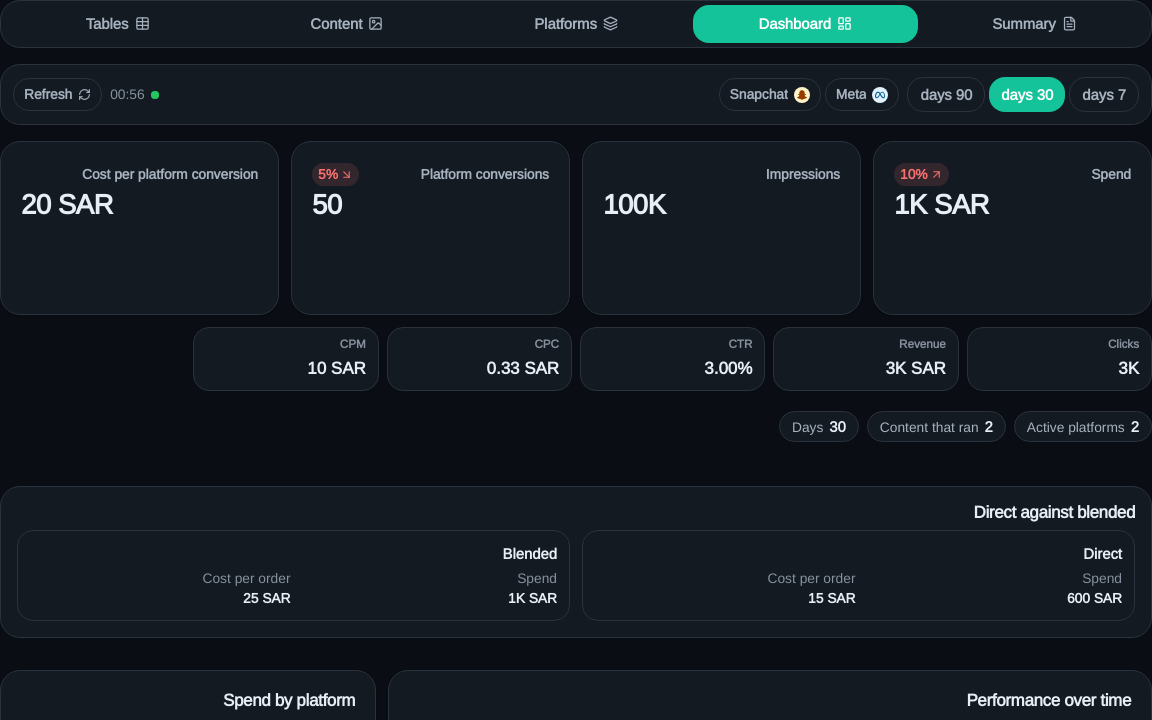
Test: the states a reader must never see collapsed › keeps the figures on screen when a refresh fails, and says so
Click the button with test id "live-refresh" at coordinates (58, 95), box top-left (13, 78), bottom-right (102, 111)
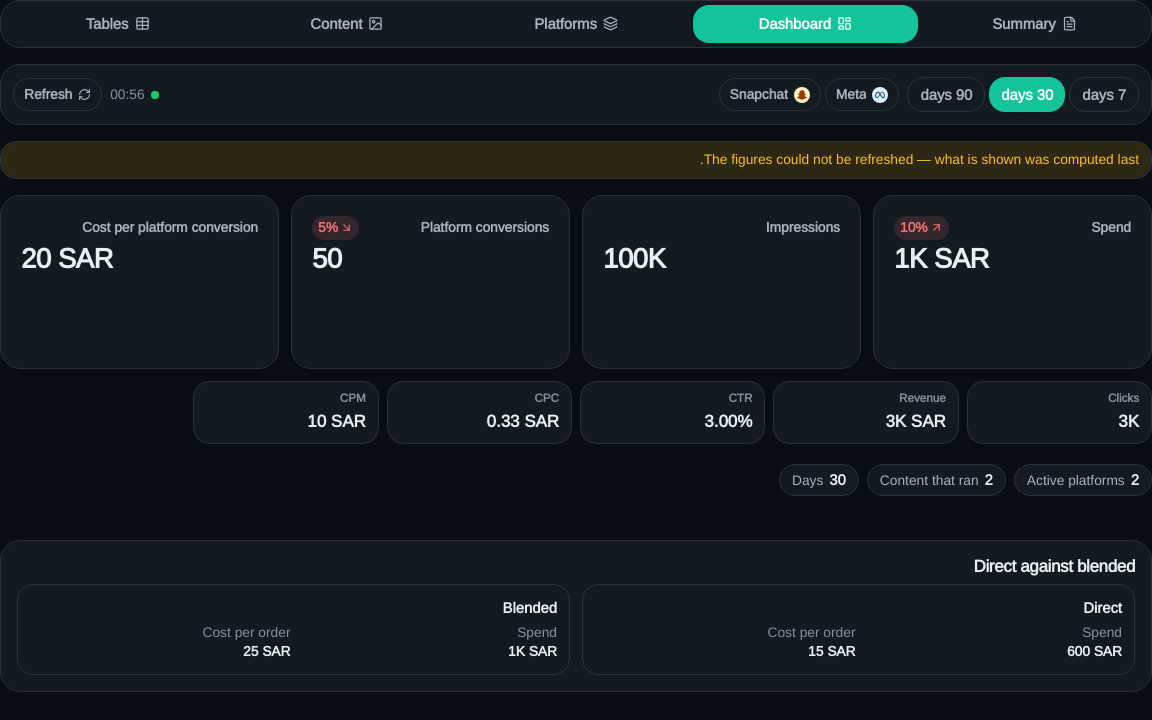
expect the element with test id "live-kpis" is shown: met, box top-left (0, 195), bottom-right (1151, 369)
expect the text with test id "live-refresh-failed" is shown: met, box top-left (0, 141), bottom-right (1151, 179)
